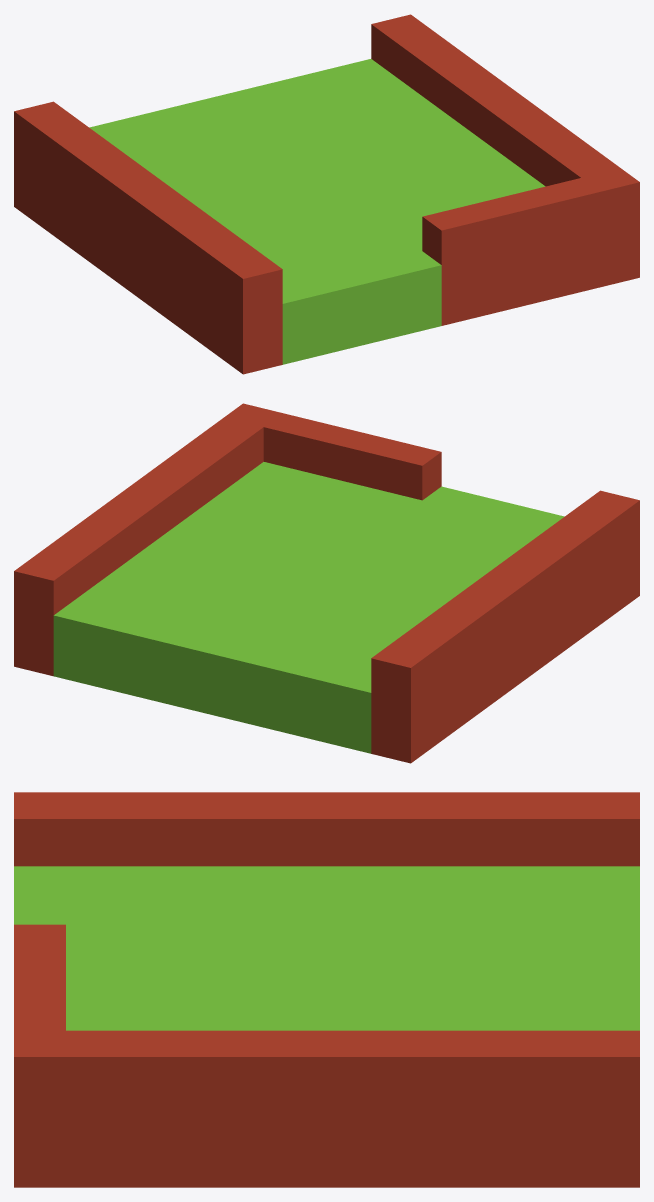
File: Obstacle_Wall_Right.FBX
3 views of the same model, one above another, from view 1: azimuth 30°, elevation 25°; view 2: azimuth 150°, elevation 25°; view 3: azimuth 270°, elevation 25° (orthographic). The views are drawn at different scales.
Visible parts, largest first — view 1: Walls, Wall_right_01; view 2: Wall_right_01, Walls; view 3: Walls, Wall_right_01.
Part boxes in pixels (left/top/right/bottom): Walls: left=14, top=14, right=639, bottom=374; Wall_right_01: left=89, top=59, right=545, bottom=364; Wall_right_01: left=53, top=462, right=564, bottom=753; Walls: left=14, top=403, right=639, bottom=763; Walls: left=14, top=792, right=639, bottom=1187; Wall_right_01: left=14, top=866, right=639, bottom=1030.
Size of the model in its own units: 0.9999 by 0.9999 by 0.23.
